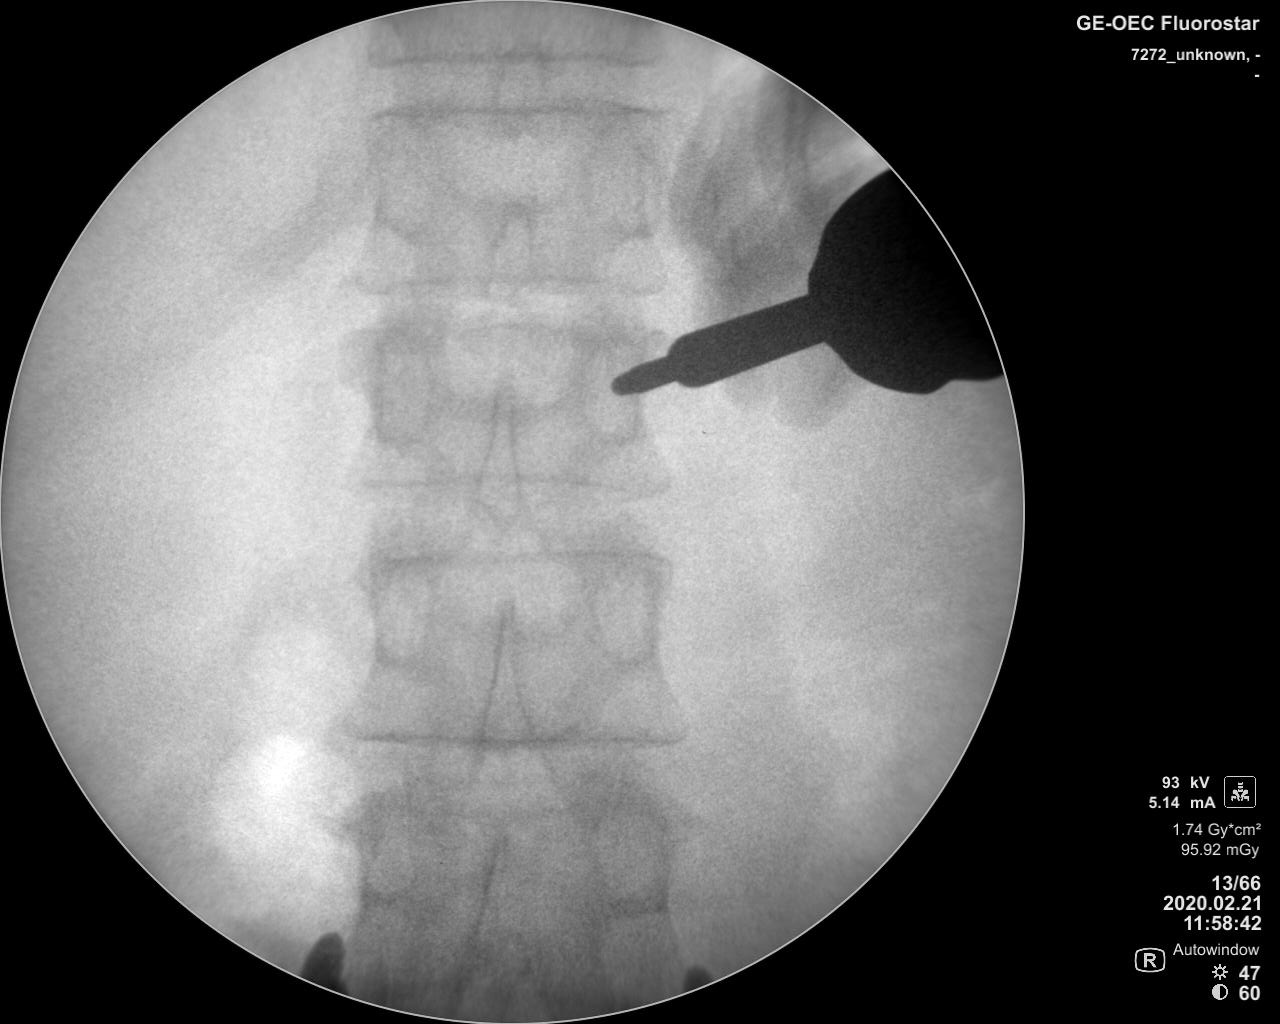eyes: (581, 111, 664, 236), (359, 114, 440, 240), (585, 802, 673, 908), (585, 559, 664, 667), (350, 799, 430, 902), (365, 559, 436, 669), (367, 343, 432, 448), (578, 345, 637, 444)
line: (329, 470, 680, 510), (302, 724, 699, 758), (332, 534, 683, 571), (346, 89, 676, 127), (333, 269, 678, 302), (356, 43, 661, 78)
nose: (461, 585, 543, 776), (456, 824, 521, 974), (469, 370, 529, 530), (491, 28, 544, 145), (478, 192, 532, 306)
